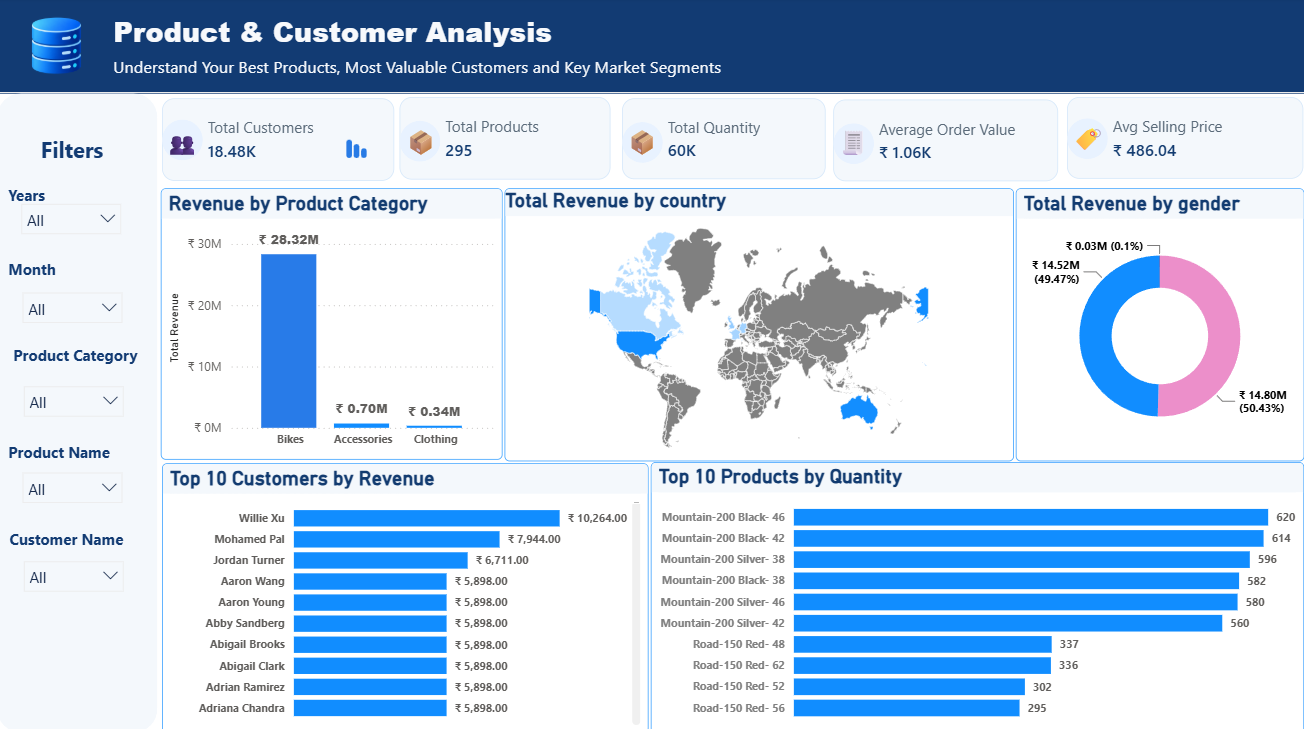

The dashboard page shown, as its layout file describes it:
{"tool":"powerbi","page":{"name":"Sales Dashboard","canvas":[1280,720],"ordinal":0},"visuals":[{"type":"shape","box":[0,0,1280,70],"z":0},{"type":"textbox","title":"Sales Performance Dashboard","box":[28.6,4.3,447.1,65.7],"z":1000},{"type":"shape","box":[0,78.8,150.2,599.4],"z":2000},{"type":"textbox","title":"Filters","box":[38.2,113.2,73.8,25.8],"z":3000},{"type":"slicer","fields":{"Values":["dim_dates.year"]},"box":[16,200.6,118.2,59.1],"z":4000},{"type":"textbox","title":"Years","box":[16.7,186.4,73.7,26.4],"z":5000},{"type":"textbox","title":"Month","box":[16.7,258.8,73.7,25],"z":6000},{"type":"slicer","fields":{"Values":["gold dim_products.category"]},"box":[18.1,378.4,118.3,59.8],"z":7000},{"type":"textbox","title":"Product Category","box":[16.7,347.8,155.8,25],"z":8000},{"type":"slicer","fields":{"Values":["gold dim_products.product_name"]},"box":[16.7,463.3,118.3,59.8],"z":9000},{"type":"textbox","title":"Product Name","box":[16.7,438.3,112.7,25],"z":10000},{"type":"slicer","fields":{"Values":["gold dim_customers.customer_name"]},"box":[18.1,549.6,118.3,58.4],"z":11000},{"type":"textbox","title":"Customer Name","box":[18.1,523.1,132.2,26.4],"z":12000},{"type":"slicer","fields":{"Values":["dim_dates.month"]},"box":[16.7,286.6,118.3,52.9],"z":13000},{"type":"lineChart","title":"Monthly Revenue Trend","fields":{"Y":["measures_table.Total_Revenue"],"Category":["dim_dates.Month Start"]},"box":[158,166.7,682.8,235.3],"z":14000},{"type":"cardVisual","title":"Total","fields":{"Data":["measures_table.Total_Revenue"]},"box":[189.4,77.9,185.2,80],"z":15000},{"type":"cardVisual","fields":{"Data":["measures_table.Total_Orders"]},"box":[406.2,77.9,185.2,79.6],"z":16000},{"type":"cardVisual","fields":{"Data":["measures_table.Total_Quantity"]},"box":[627.9,77.9,191.1,79.5],"z":17000},{"type":"cardVisual","fields":{"Data":["measures_table.Average_order_Value"]},"box":[850.5,78.4,201.1,79.5],"z":18000},{"type":"cardVisual","fields":{"Data":["measures_table.Avg_Selling_Price"]},"box":[1082.6,77.9,185.3,79.5],"z":19000},{"type":"shape","box":[166.6,95.7,46,46],"z":20000},{"type":"textbox","title":"₹","box":[157.5,101.4,64.6,36.9],"z":21000},{"type":"shape","box":[380.9,95.3,46,46],"z":22000},{"type":"textbox","title":"🛒","box":[372.5,99.8,61.9,57.5],"z":23000},{"type":"shape","box":[601.9,94.3,46,46],"z":24000},{"type":"textbox","title":"📦","box":[593.4,98.9,61.9,57.5],"z":25000},{"type":"shape","box":[827.4,94.6,46,46],"z":26000},{"type":"textbox","title":"🧾","box":[819,99.2,61.9,57.5],"z":27000},{"type":"shape","box":[1059.7,95,46,46],"z":28000},{"type":"textbox","title":"🏷️","box":[1051.3,99.5,61.9,57.5],"z":29000},{"type":"clusteredColumnChart","title":"Revenue by Product Category","fields":{"Y":["measures_table.Total Revenue"],"Category":["gold dim_products.category"]},"box":[850.5,166.7,417.4,235.3],"z":30000},{"type":"clusteredBarChart","title":"Top 10 Products by Revenue","fields":{"Y":["measures_table.Total Revenue"],"Category":["gold dim_products.product_name"]},"box":[158,407.8,444,287.1],"z":31000},{"type":"donutChart","title":"Revenue by Country","fields":{"Y":["measures_table.Total Revenue"],"Category":["gold dim_customers.country"]},"box":[610.5,407.8,322.1,287.1],"z":32000},{"type":"lineStackedColumnComboChart","title":"Orders by Year","fields":{"Category":["dim_dates.year"],"Y2":["measures_table.Total Revenue"],"Y":["measures_table.Total Orders"]},"box":[941,411.4,326.9,283.5],"z":33000}]}

Visuals, with their boxes in screenshot pixels (x1, y1, x2, y2), scaled from the page's 1280x720 canvas onto the 1304x729 screenshot:
shape: 0, 0, 1303, 71
"Sales Performance Dashboard" textbox: 29, 4, 485, 71
shape: 0, 80, 153, 687
"Filters" textbox: 39, 115, 114, 141
slicer - dim_dates.year: 16, 203, 137, 263
"Years" textbox: 17, 189, 92, 215
"Month" textbox: 17, 262, 92, 287
slicer - gold dim_products.category: 18, 383, 139, 444
"Product Category" textbox: 17, 352, 176, 377
slicer - gold dim_products.product_name: 17, 469, 138, 530
"Product Name" textbox: 17, 444, 132, 469
slicer - gold dim_customers.customer_name: 18, 556, 139, 616
"Customer Name" textbox: 18, 530, 153, 556
slicer - dim_dates.month: 17, 290, 138, 344
"Monthly Revenue Trend" lineChart: 161, 169, 857, 407
"Total" cardVisual: 193, 79, 382, 160
cardVisual - measures_table.Total_Orders: 414, 79, 602, 159
cardVisual - measures_table.Total_Quantity: 640, 79, 834, 159
cardVisual - measures_table.Average_order_Value: 866, 79, 1071, 160
cardVisual - measures_table.Avg_Selling_Price: 1103, 79, 1292, 159
shape: 170, 97, 217, 143
"₹" textbox: 160, 103, 226, 140
shape: 388, 96, 435, 143
"🛒" textbox: 379, 101, 443, 159
shape: 613, 95, 660, 142
"📦" textbox: 605, 100, 668, 158
shape: 843, 96, 890, 142
"🧾" textbox: 834, 100, 897, 159
shape: 1080, 96, 1126, 143
"🏷️" textbox: 1071, 101, 1134, 159
"Revenue by Product Category" clusteredColumnChart: 866, 169, 1292, 407
"Top 10 Products by Revenue" clusteredBarChart: 161, 413, 613, 704
"Revenue by Country" donutChart: 622, 413, 950, 704
"Orders by Year" lineStackedColumnComboChart: 959, 417, 1292, 704
